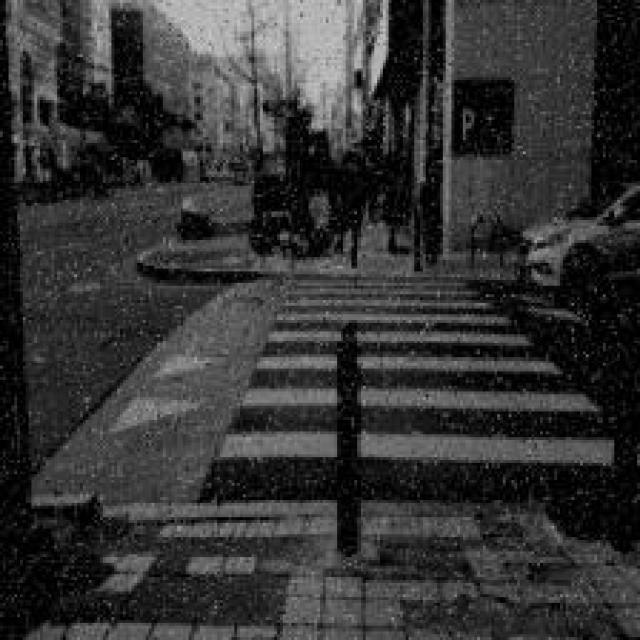crosswalk: (213, 274, 625, 469)
